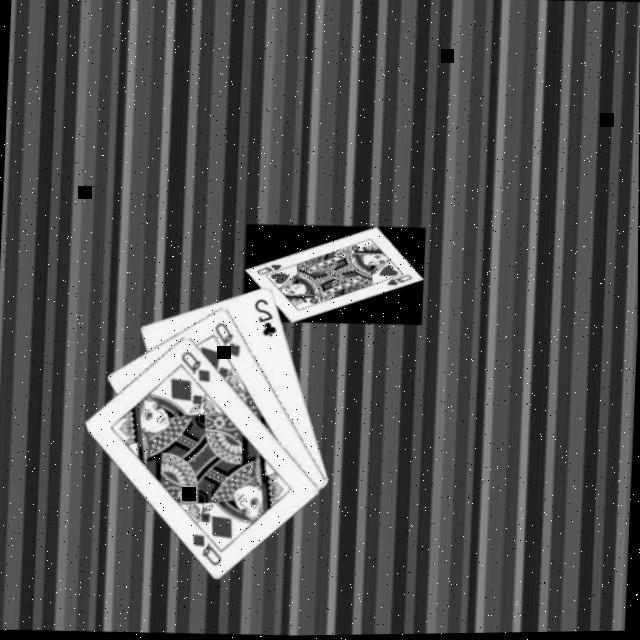2C: (252, 294, 282, 339)
QD: (180, 346, 217, 384), (192, 529, 228, 568), (212, 318, 245, 359)
